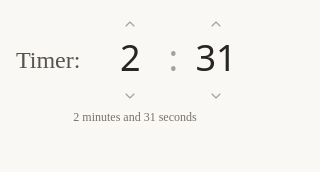
Test case: TimerController › increments the minutes while preserving the seconds
This screenshot has width=320, height=172.
Expected: the 1st field named "Minutes" holds "2", [96, 38, 164, 78]
Expected: the 2nd field named "Seconds" holds "31", [182, 38, 250, 78]
Click the button named "Increment Minutes".
click(130, 24)  # box [92, 12, 168, 36]
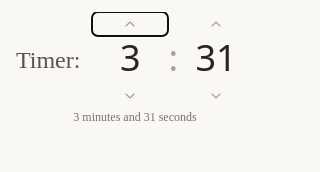
Expected: the 2nd field named "Seconds" holds "31", [182, 38, 250, 78]
Now the 1st field named "Minutes" holds "3", box [96, 38, 164, 78]
